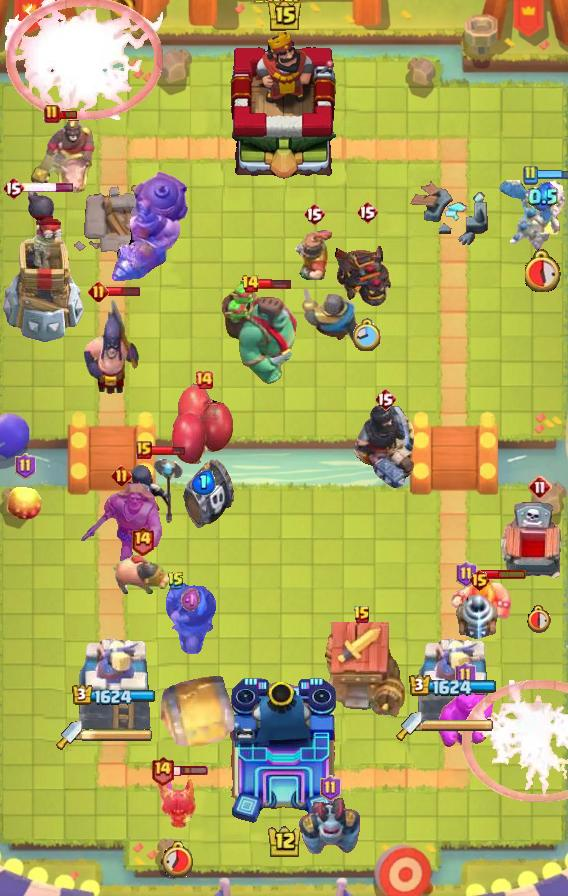archer-evolution: (332, 223, 402, 309)
bar: (77, 637, 151, 731), (416, 637, 490, 731)
barbarian-evolution: (5, 0, 163, 120), (461, 680, 568, 802)
dirt: (156, 670, 240, 754)
earthquake: (294, 228, 334, 282)
electro-spirit: (528, 182, 558, 212), (192, 469, 216, 494), (181, 587, 202, 613)
elixir: (526, 248, 563, 291), (160, 840, 196, 878), (353, 319, 382, 353), (527, 603, 553, 632)
elixir-golem-mid: (498, 501, 568, 587)
elixir-golem-small: (297, 797, 363, 857)
emote: (474, 568, 527, 580), (21, 182, 75, 193), (150, 443, 186, 456), (171, 765, 209, 777), (106, 285, 142, 297), (257, 278, 290, 290), (536, 168, 568, 179), (58, 108, 78, 119)
executioner: (113, 553, 171, 597)
firecracker: (300, 289, 364, 344)
freeze: (27, 118, 99, 196)
goblin-drill: (453, 592, 505, 648)
goblin-giant: (451, 574, 513, 622)
goblin-hut: (78, 481, 164, 561)
golden-knight: (157, 772, 199, 832)
hog: (8, 483, 42, 521)
inferno-dragon: (351, 403, 419, 495), (163, 577, 219, 657)
king-tower: (222, 31, 346, 181), (228, 676, 340, 826)
king-tower-bar: (422, 719, 494, 733), (82, 728, 154, 742)
lava-hound: (218, 281, 302, 387)
mini-pekka: (494, 177, 568, 253)
monk: (83, 295, 141, 395)
rascal-boy: (124, 455, 184, 527)
royal-recruit-evolution: (170, 383, 238, 533)
selected: (409, 674, 497, 698), (72, 684, 156, 706)
sparky: (319, 621, 405, 719)
text: (149, 755, 174, 785), (130, 525, 154, 556), (528, 475, 552, 499), (468, 568, 491, 592), (16, 453, 37, 479), (456, 561, 477, 587), (456, 662, 477, 688), (320, 775, 341, 801), (2, 176, 24, 200), (356, 200, 378, 224), (303, 202, 325, 226), (374, 387, 396, 411), (87, 281, 108, 303), (112, 465, 133, 487), (194, 370, 214, 390), (241, 274, 260, 294), (167, 571, 185, 591), (353, 605, 371, 625), (44, 104, 60, 124), (522, 165, 538, 185), (136, 441, 152, 459)
tornado: (437, 689, 493, 749)
wizard: (109, 170, 191, 284)
zappy: (1, 186, 88, 344)
